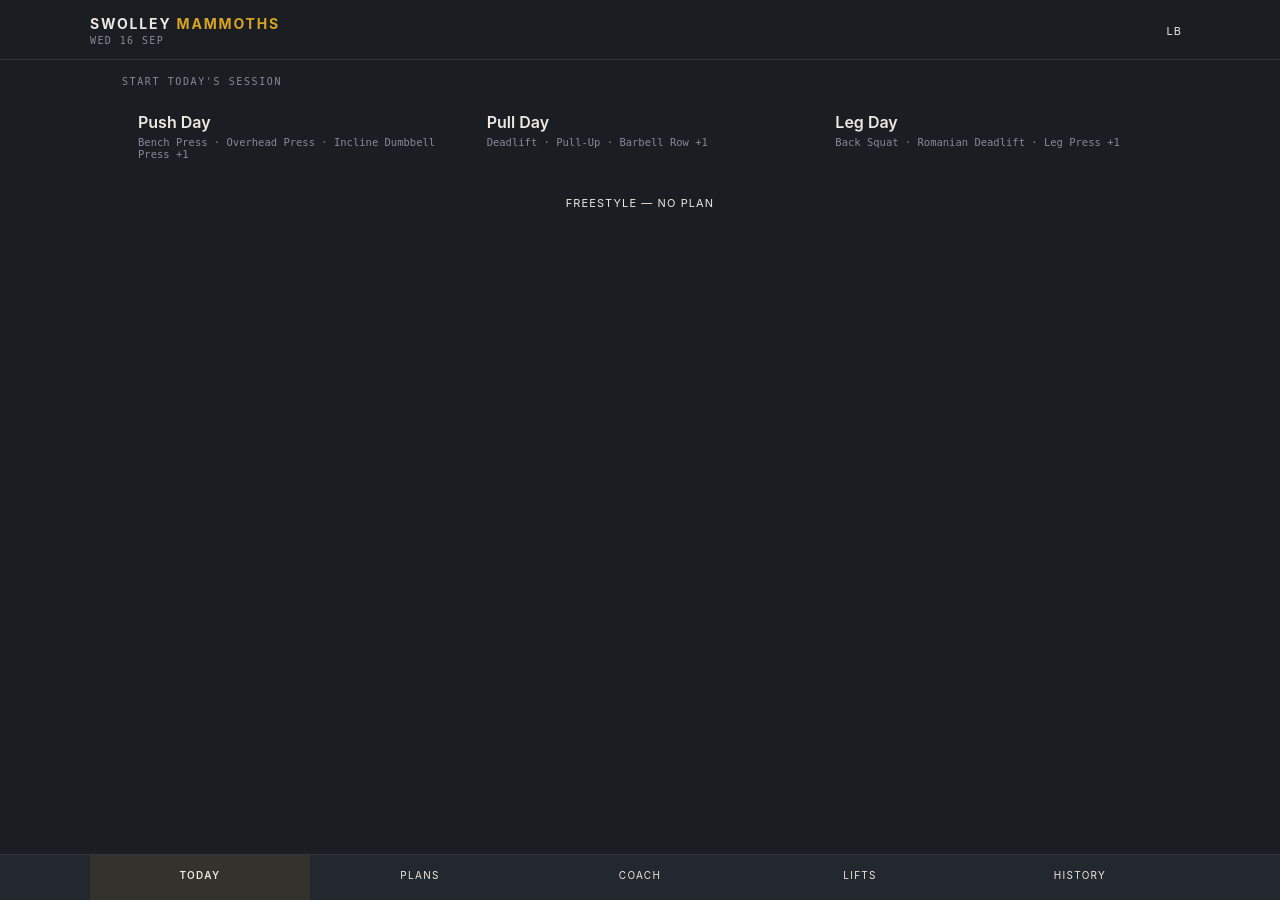
Test case: SwolleyMammoths › navigates to the Coach tab and shows the empty-goals state
expect the text "SWOLLEY MAMMOTHS" is shown: met, box [90,15,280,32]
Click the button "Coach".
click(640, 878)  # box [530,855,750,899]
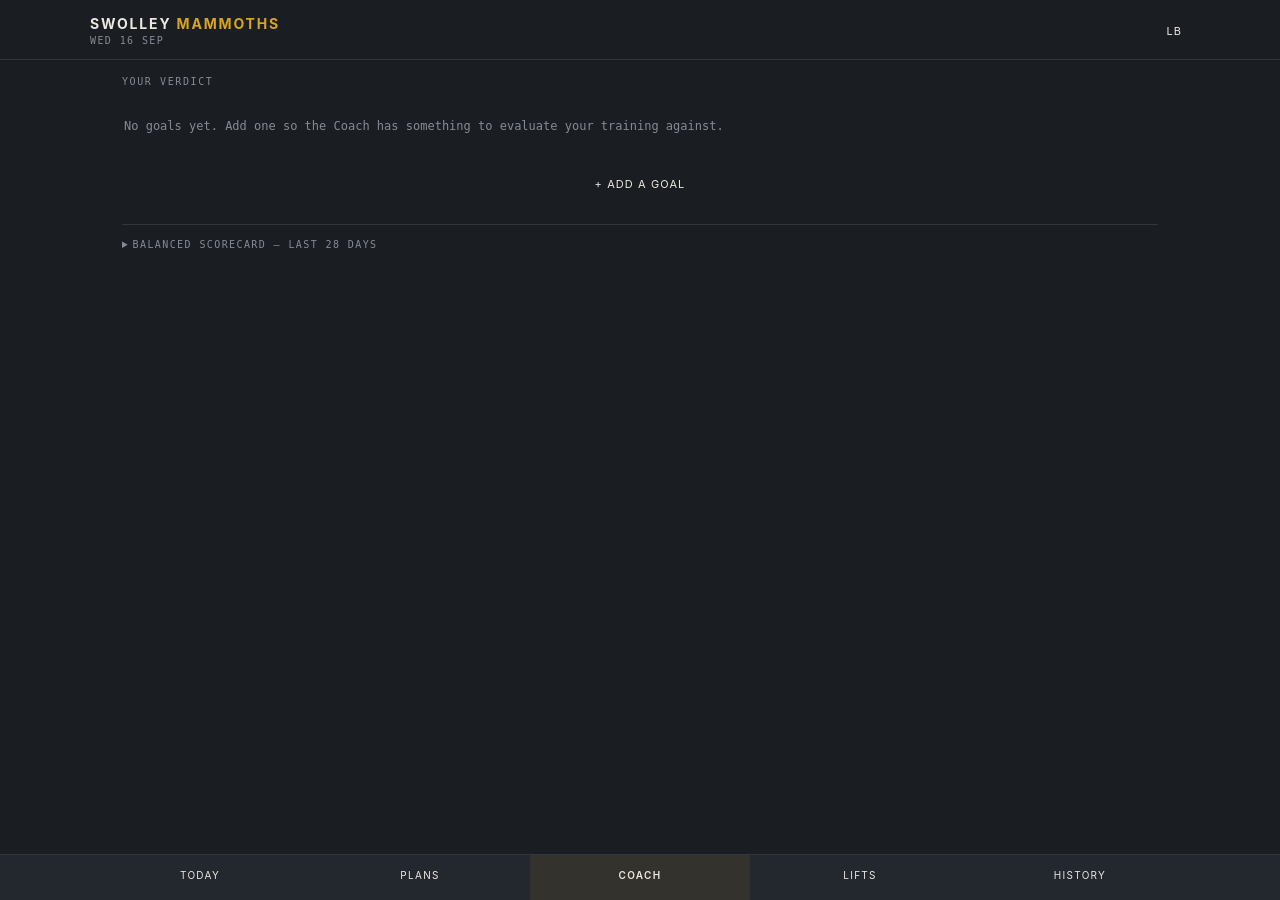
expect the text "No goals yet" is shown: met, box [124,119,724,133]
expect the button "+ Add a goal" is shown: met, box [122,164,1158,204]
